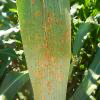Corn rust leaf: (15, 0, 73, 100)
